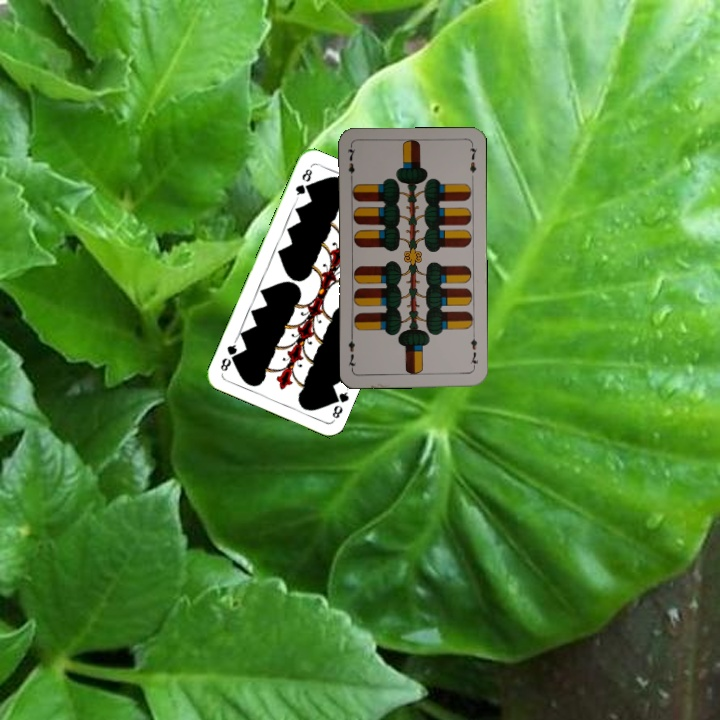E7: (466, 331, 480, 371), (343, 143, 357, 183)
G8: (327, 384, 352, 423), (291, 164, 315, 202)
